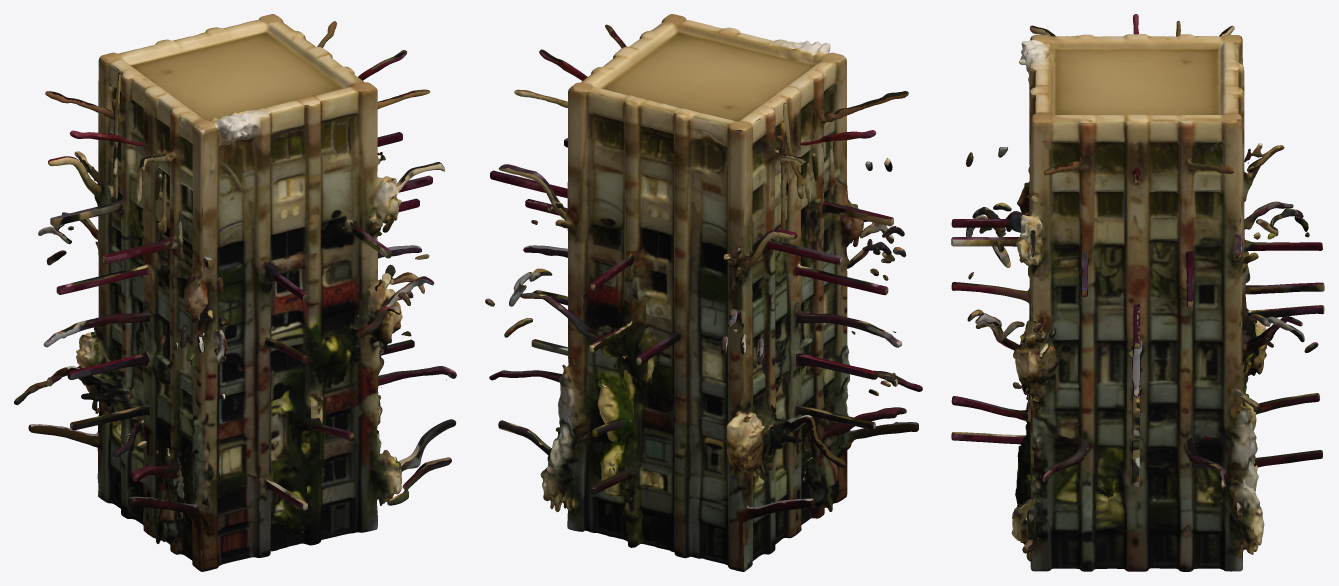
Rendered from tower-f17a9cde1984.glb.
3 views of the same model, side by side, from view 1: azimuth 30°, elevation 25°; view 2: azimuth 150°, elevation 25°; view 3: azimuth 270°, elevation 25° (orthographic).
Visible parts, largest first — view 1: tmpi731z_la.ply; view 2: tmpi731z_la.ply; view 3: tmpi731z_la.ply.
Part boxes in pixels (left/top/right/bottom): tmpi731z_la.ply: left=14, top=14, right=456, bottom=571; tmpi731z_la.ply: left=485, top=14, right=922, bottom=571; tmpi731z_la.ply: left=951, top=14, right=1324, bottom=571.
Size of the model in its own units: 1.79 by 2 by 1.47.
1 material, 1 textured.
